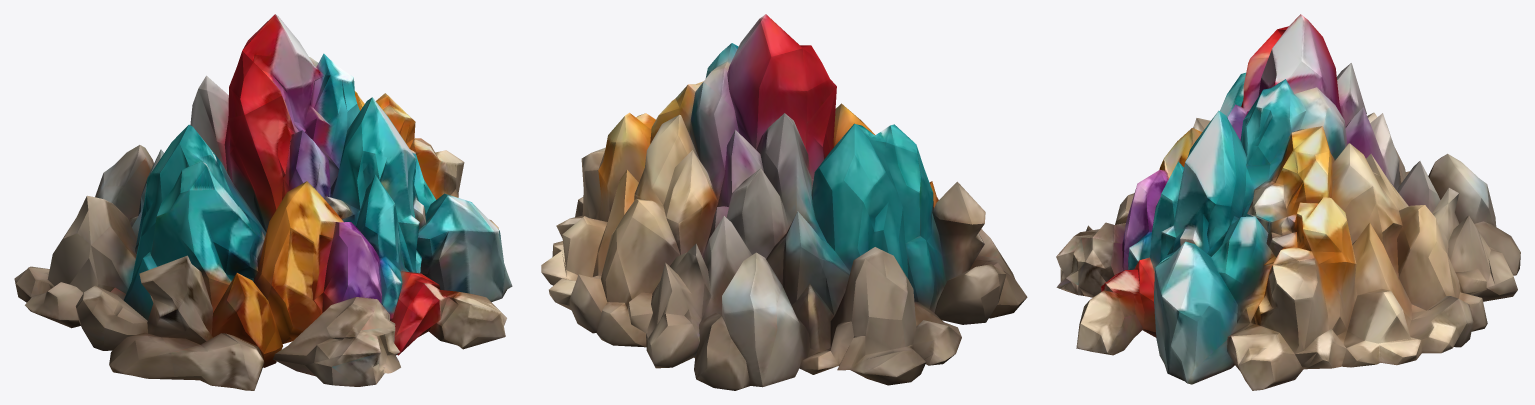
File: m2CrystalHillBg.glb
3 renders of one model, left to right at view 1: azimuth 30°, elevation 25°; view 2: azimuth 150°, elevation 25°; view 3: azimuth 270°, elevation 25°, orthographic.
Visible parts, largest first — view 1: model; view 2: model; view 3: model.
Part boxes in pixels (x1,y1,x2,y2): model: (14, 14, 512, 390); model: (541, 14, 1027, 390); model: (1056, 14, 1520, 390).
Bounding box in the file's own units: 1.9 × 1.22 × 1.8.
1 material, 1 textured.
